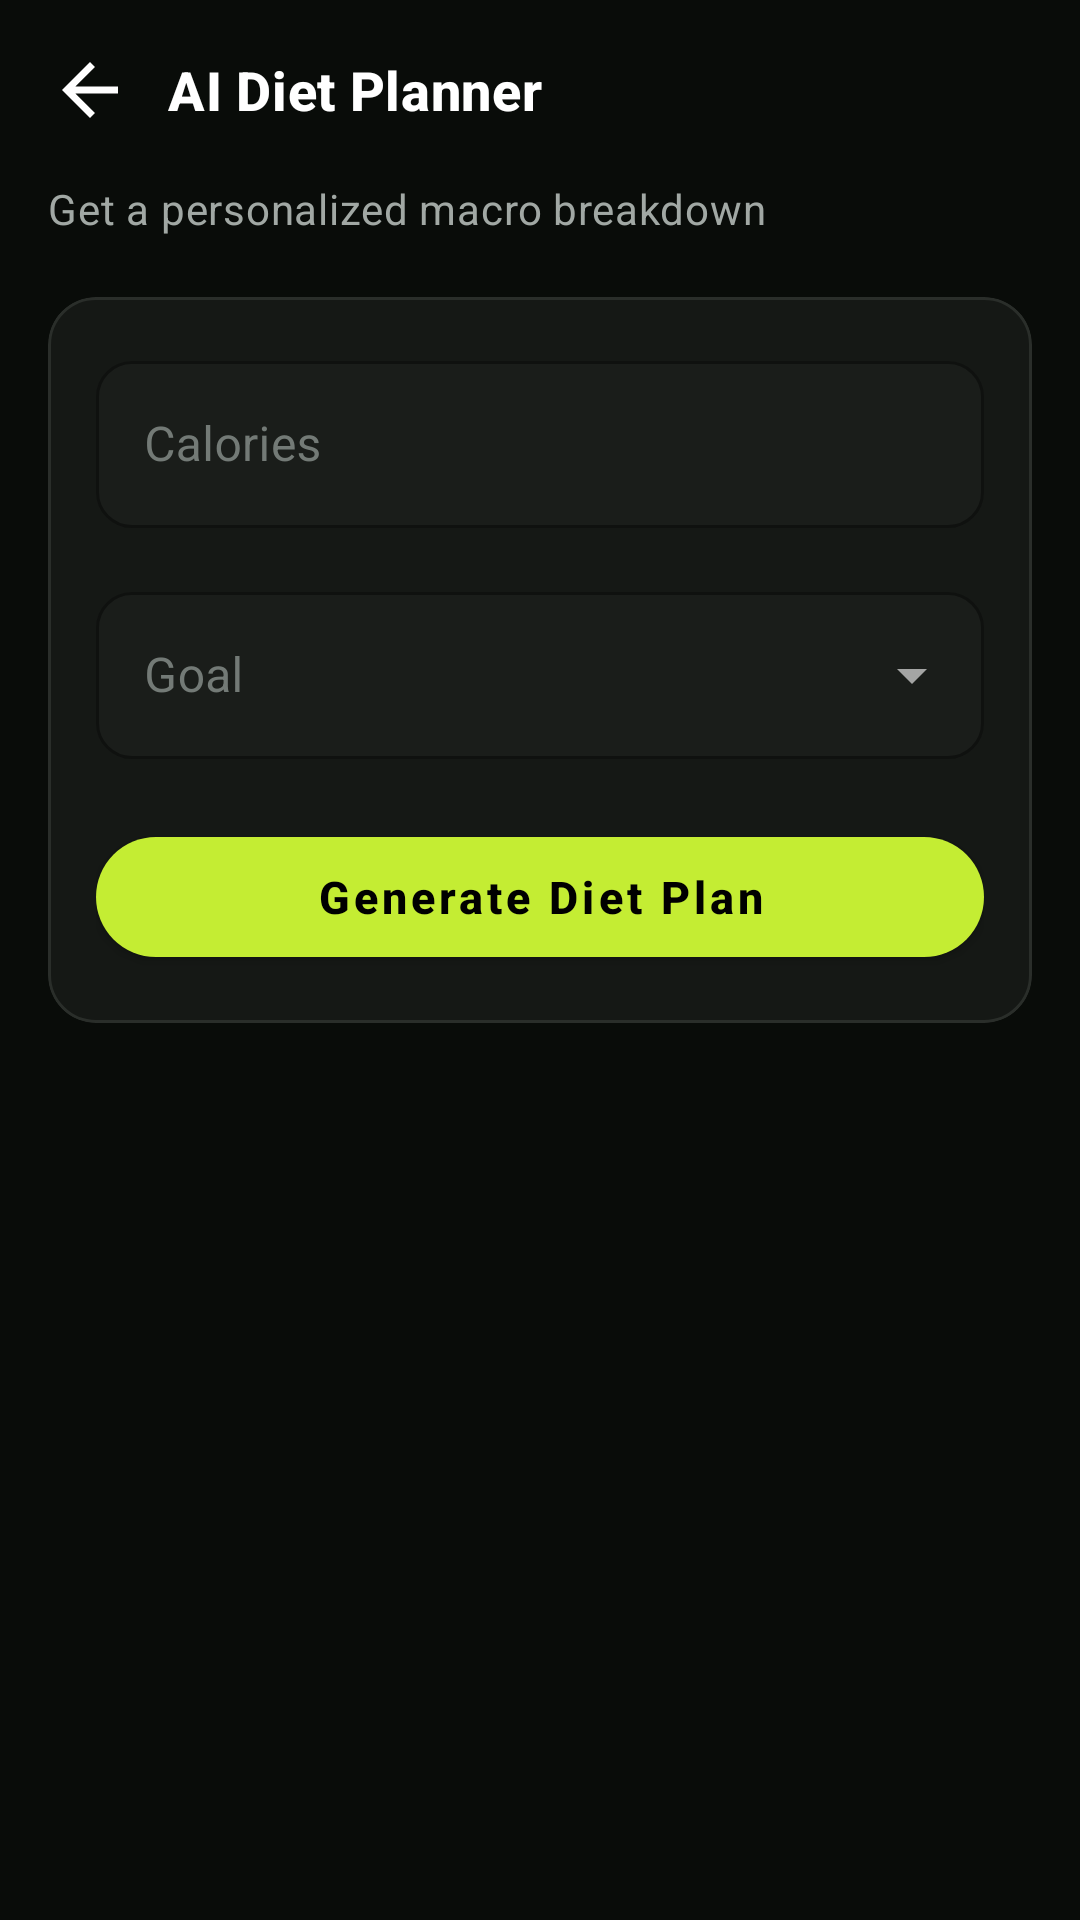

Screen size 1080x1920. Icon name, then its box in pixels as (x1, y1, x2, y2):
Back: (62, 62, 118, 118)
